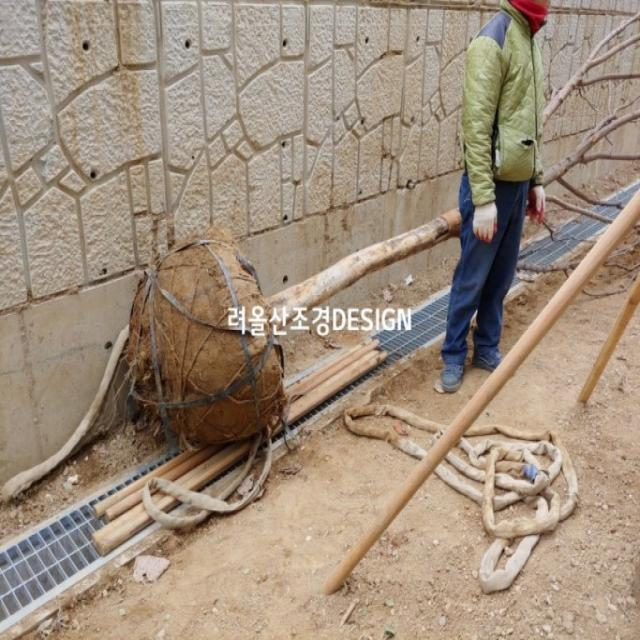plant: (126, 11, 640, 445)
wood: (322, 187, 640, 594), (91, 352, 388, 556), (105, 338, 380, 524), (93, 343, 362, 518), (577, 272, 640, 402)
